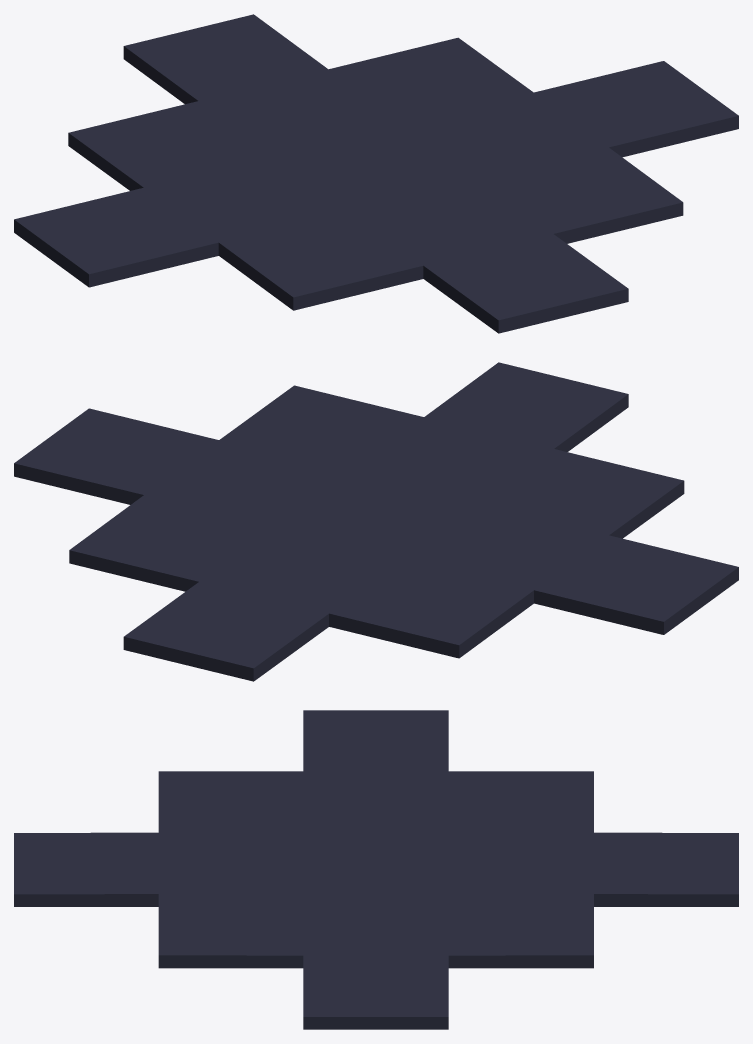
Rendered from 3D_RaggioTorre.fbx.
3 renders of one model, top to bottom at view 1: azimuth 30°, elevation 25°; view 2: azimuth 150°, elevation 25°; view 3: azimuth 270°, elevation 25°, orthographic. The views are drawn at different scales.
Visible parts, largest first — view 1: Base.003; view 2: Base.003; view 3: Base.003.
Part boxes in pixels (x1,y1,x2,y2): Base.003: [14, 14, 738, 333]; Base.003: [14, 362, 738, 681]; Base.003: [14, 710, 738, 1029].
Bounding box in the file's own units: 1275 × 24.85 × 1273.
